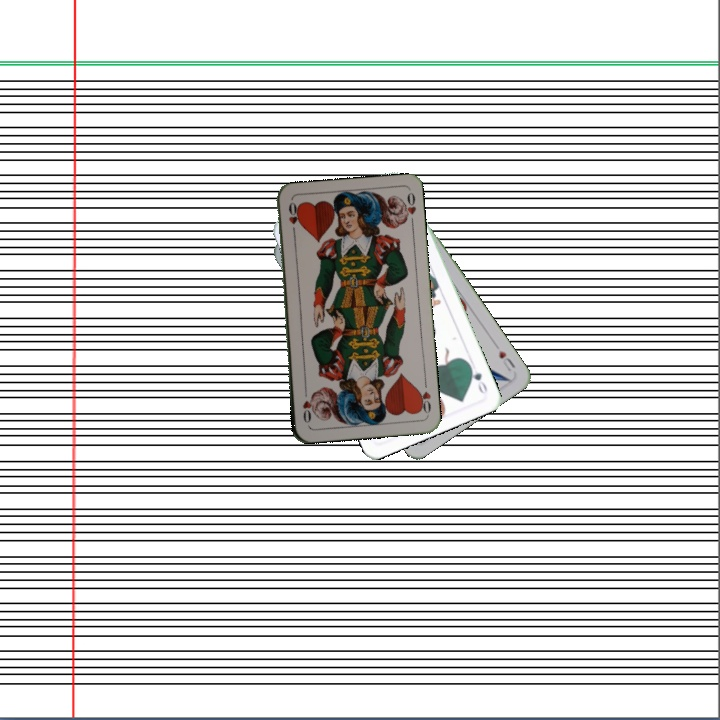GO: (464, 360, 490, 397)
HO: (414, 376, 433, 417), (284, 198, 299, 238)
HU: (495, 346, 518, 374)
